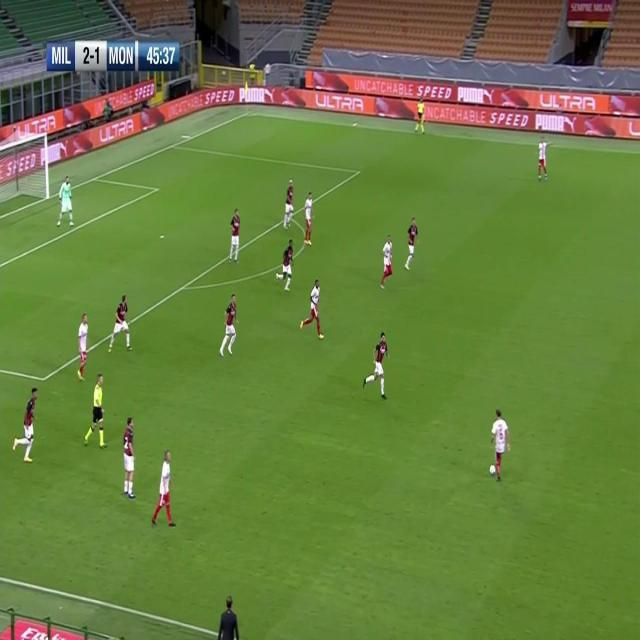ball: (489, 463, 497, 474)
goalkeeper: (56, 173, 74, 227)
player: (11, 389, 37, 463), (151, 450, 175, 528), (363, 328, 389, 399), (488, 407, 510, 480), (300, 277, 324, 339), (108, 293, 131, 353), (218, 294, 238, 358), (121, 420, 137, 500), (76, 311, 90, 381), (379, 234, 394, 290), (403, 215, 418, 270), (277, 241, 293, 292), (302, 190, 314, 246), (228, 208, 240, 263), (282, 178, 294, 228), (536, 134, 548, 182)
referee: (84, 374, 108, 448), (414, 92, 426, 134)
